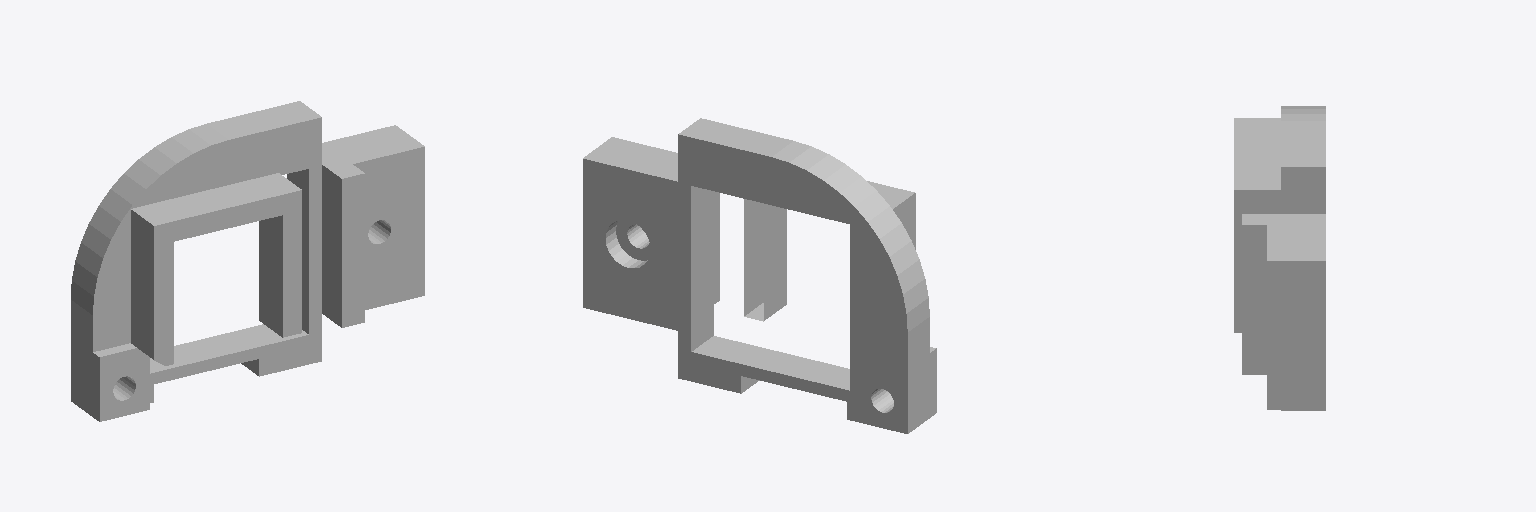
File: cam brace w heatsink.obj
3 renders of one model, left to right at view 1: azimuth 30°, elevation 25°; view 2: azimuth 150°, elevation 25°; view 3: azimuth 270°, elevation 25°, orthographic.
Parts seen in each view (by area): view 1: Mesh1 Group1 Model; view 2: Mesh1 Group1 Model; view 3: Mesh1 Group1 Model.
Boxes of the visible parts, box(x1,y1,x2,y2) form: Mesh1 Group1 Model: box(71, 101, 424, 421); Mesh1 Group1 Model: box(583, 118, 936, 433); Mesh1 Group1 Model: box(1234, 106, 1325, 410).
Bounding box in the file's own units: 28.67 × 20.57 × 6.98.